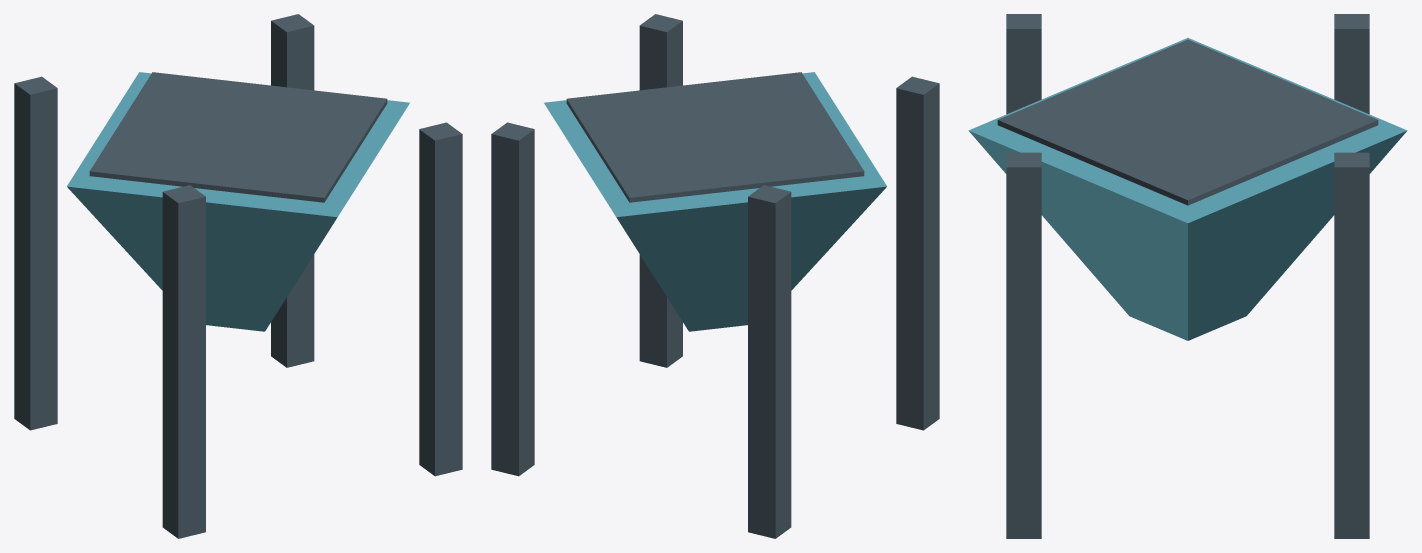
The model's file is bulk-feed-hopper.glb.
3 renders of one model, left to right at view 1: azimuth 30°, elevation 25°; view 2: azimuth 150°, elevation 25°; view 3: azimuth 270°, elevation 25°, orthographic. The views are drawn at different scales.
Visible parts, largest first — view 1: dark, blue; view 2: dark, blue; view 3: dark, blue.
Part boxes in pixels (<box>): dark: <box>14,14,462,538</box>; blue: <box>67,72,409,331</box>; dark: <box>491,14,939,538</box>; blue: <box>544,72,886,331</box>; dark: <box>997,14,1378,538</box>; blue: <box>968,38,1407,340</box>.
Size of the model in its own units: 1.5 by 1.4 by 1.5.
